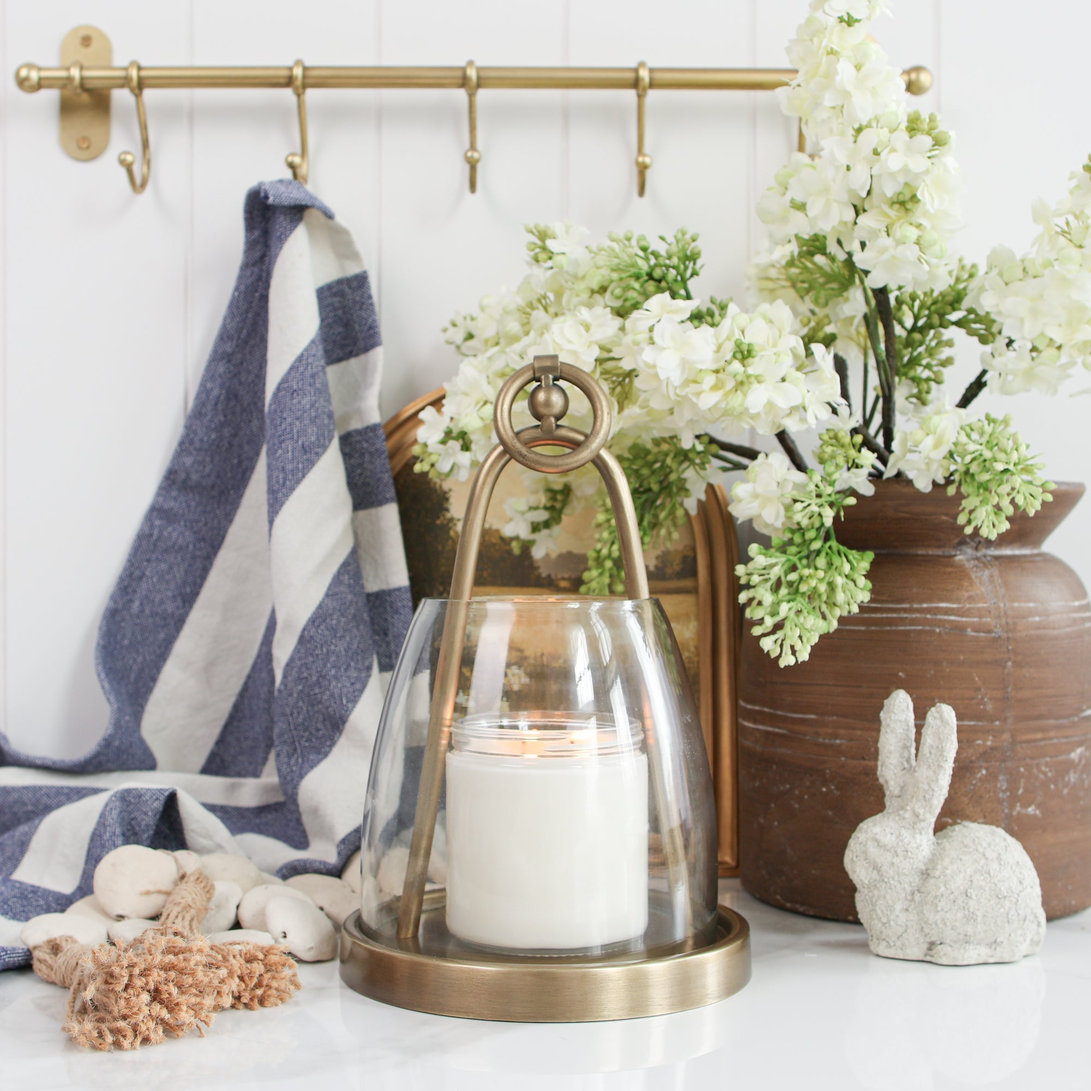Open-Flame-Hazard: (411, 641, 695, 953)
